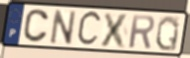C: (76, 9, 104, 49), (22, 8, 51, 44)
N: (49, 8, 78, 46)
Q: (154, 14, 181, 53)
R: (127, 13, 156, 50)
X: (98, 11, 132, 50)
